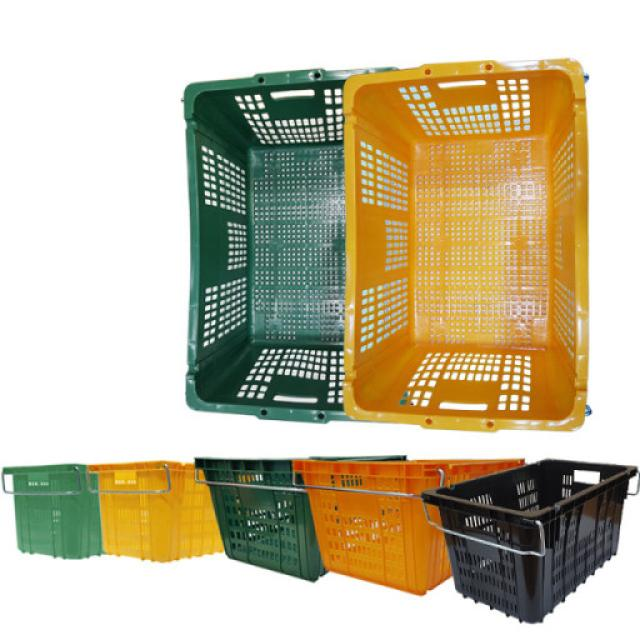basket: (345, 59, 590, 432), (164, 59, 369, 424), (193, 436, 328, 603), (86, 443, 224, 575), (299, 489, 459, 598), (0, 463, 103, 564), (294, 461, 525, 496)
